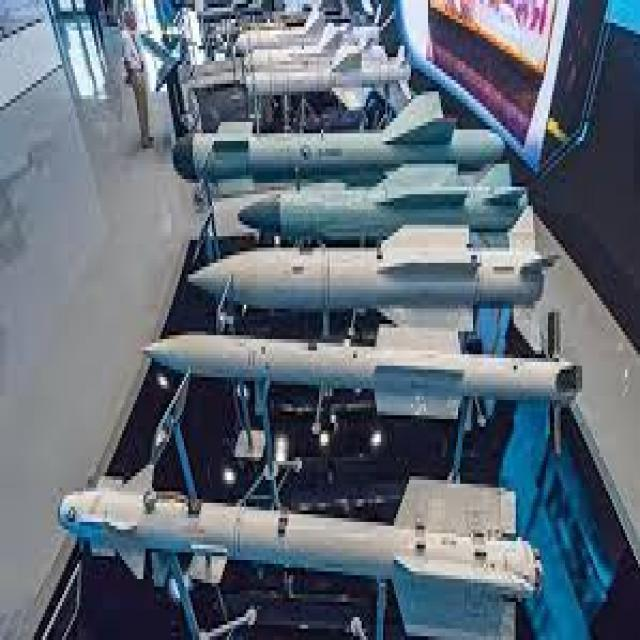missile: (40, 465, 533, 632), (123, 330, 587, 410)
